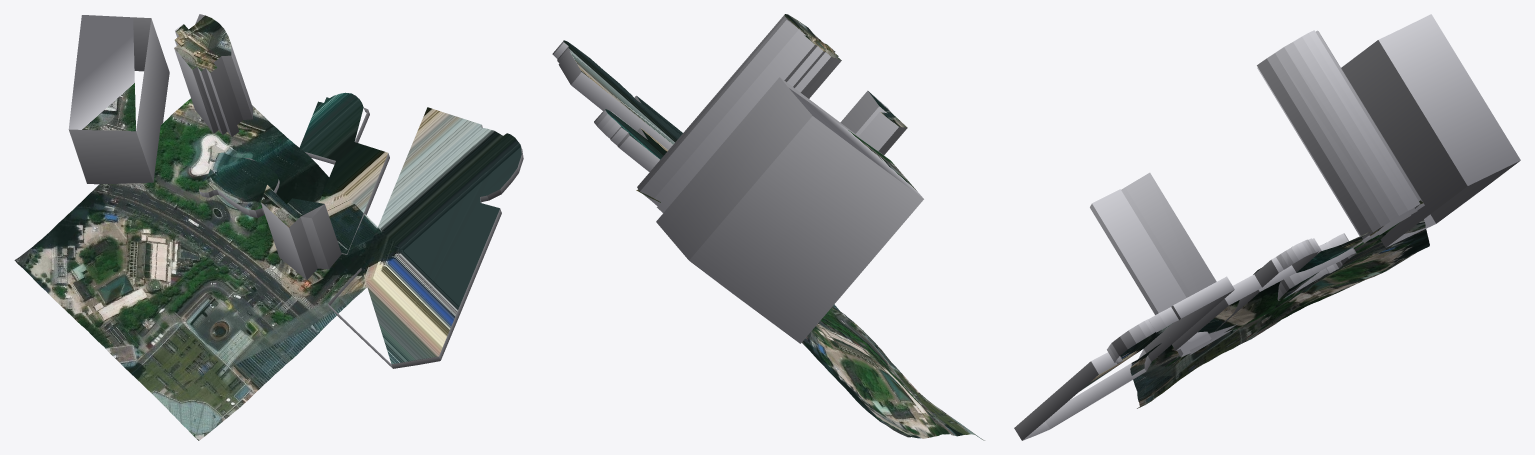
3 views of the same model, side by side, from view 1: azimuth 30°, elevation 25°; view 2: azimuth 150°, elevation 25°; view 3: azimuth 270°, elevation 25° (orthographic). The views are drawn at different scales.
Bounding box in the file's own units: 415 × 364 × 395.
Materials: 1 (1 with a texture image).
